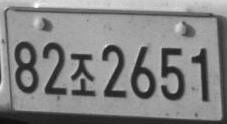1: (189, 48, 216, 101)
2: (42, 41, 67, 95), (101, 44, 126, 97)
5: (160, 47, 186, 101)
6: (130, 46, 156, 99)
8: (14, 40, 38, 93)
조: (70, 53, 95, 96)
